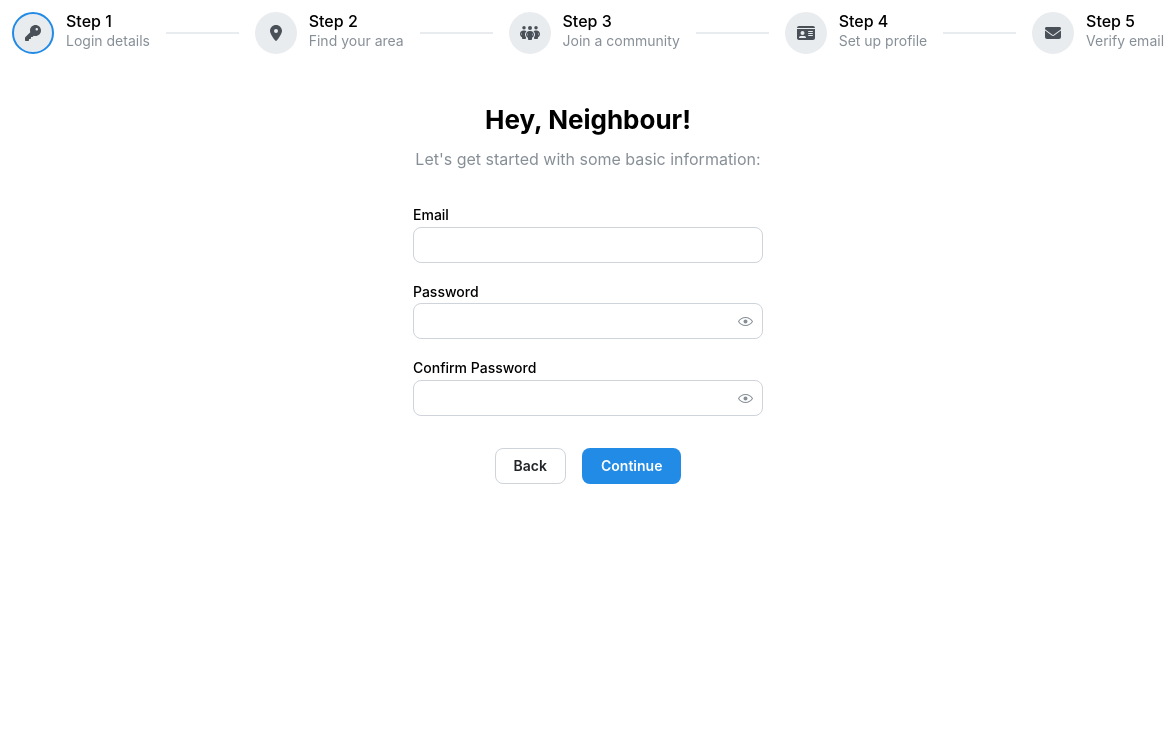
Test: Initial Component & Step 1: Login Details › Doesnt navigate to Step 2 if passwords are present but dont match
Type "user@email.com" into the field with test id "email".
click(588, 245); type("user@email.com")  # box [413,227,763,263]
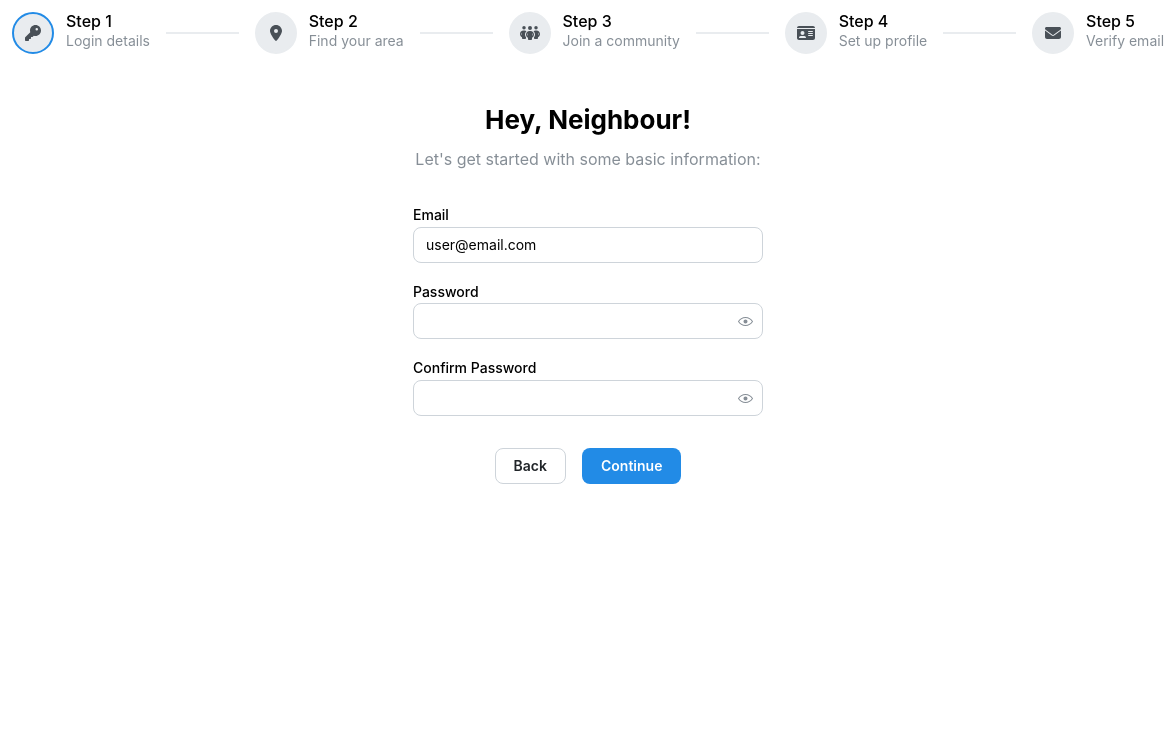
Type "password" into the password field with test id "password".
click(588, 322); type("password")  # box [414,304,762,338]
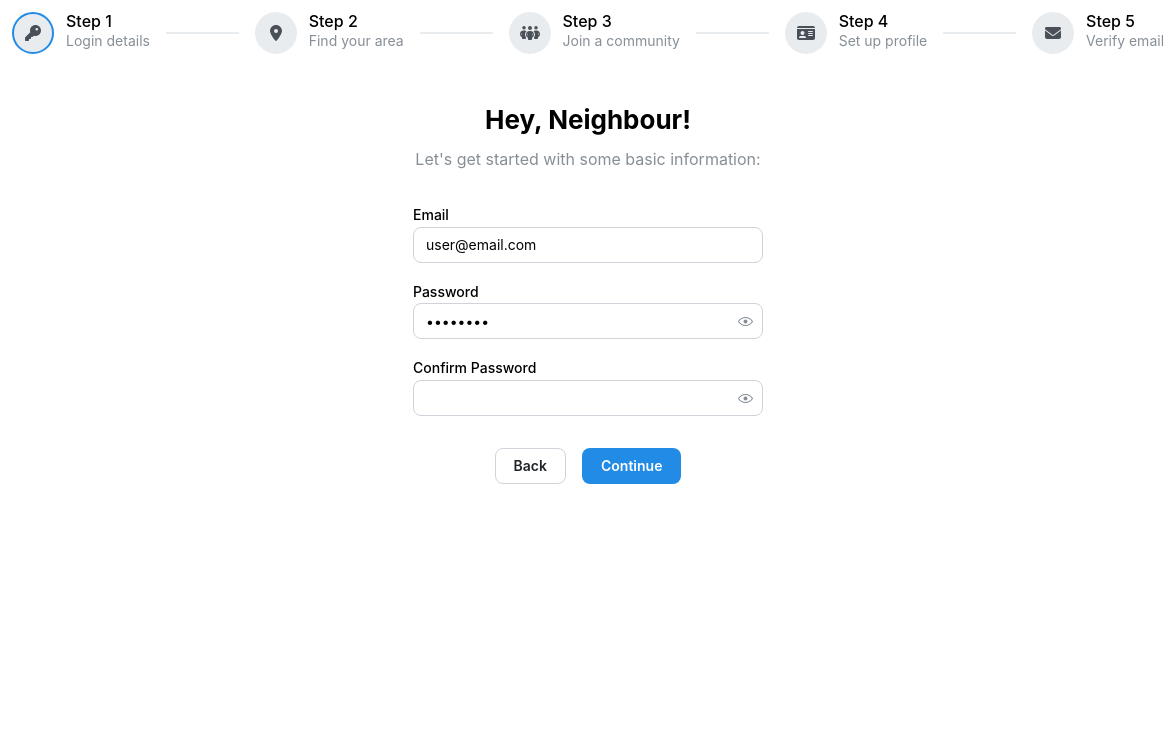
Type "notpassword" into the password field with test id "confirmPassword".
click(588, 398); type("notpassword")  # box [414,381,762,415]
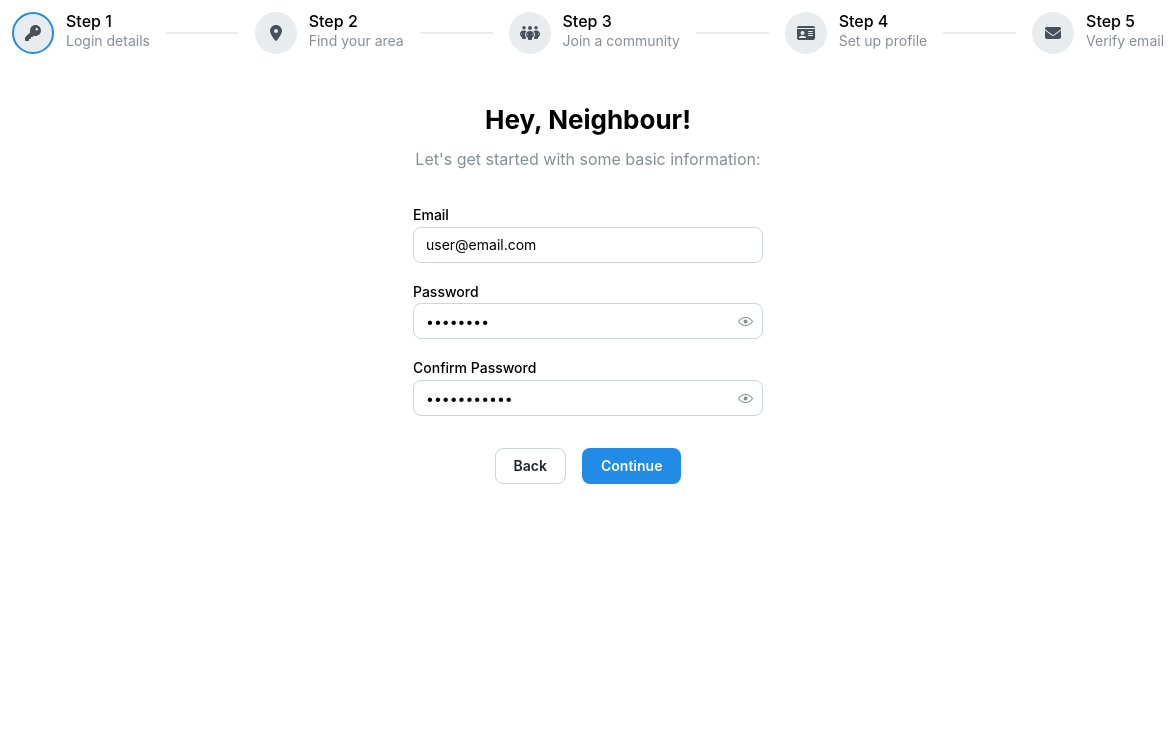
Click the button "Continue".
click(632, 466)  # box [582,448,681,484]
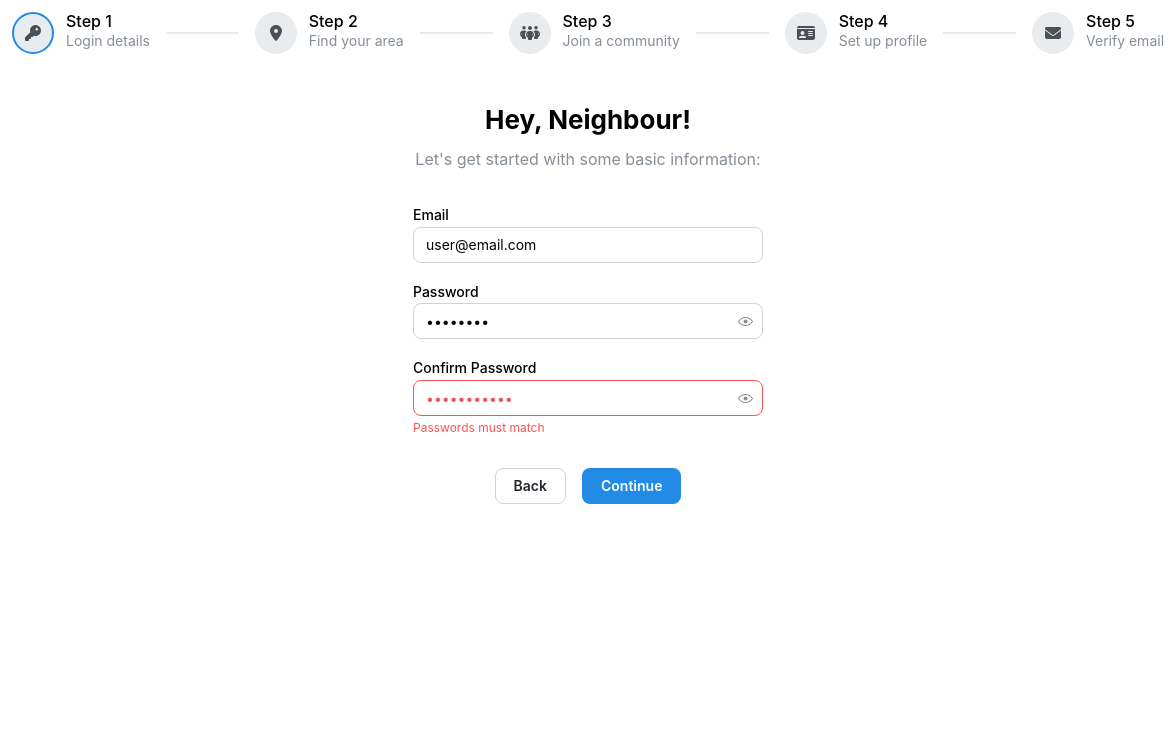
Now the text "Passwords must match" is shown, box [413,420,544,435]
